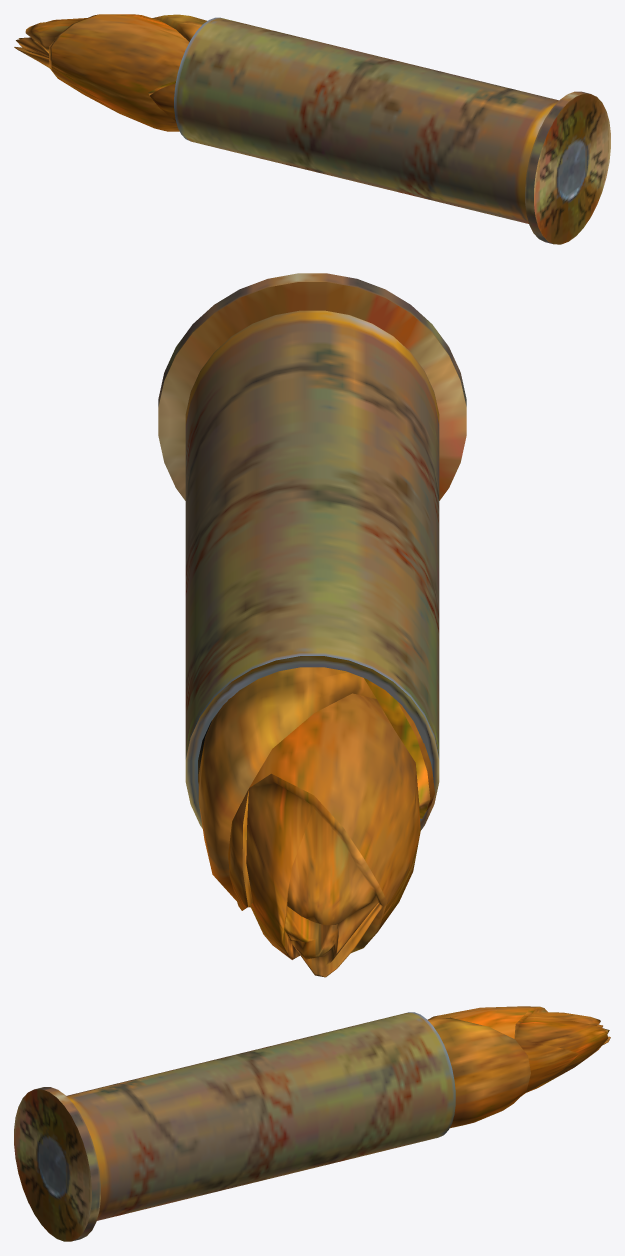
File: arcade_bullet.obj
3 renders of one model, top to bottom at view 1: azimuth 30°, elevation 25°; view 2: azimuth 150°, elevation 25°; view 3: azimuth 270°, elevation 25°, orthographic. The views are drawn at different scales.
Visible parts, largest first — view 1: bayomat0, bayomat1; view 2: bayomat0, bayomat1; view 3: bayomat0, bayomat1.
Part boxes in pixels (left/top/right/bottom): bayomat0: left=174, top=17, right=610, bottom=244; bayomat1: left=14, top=14, right=206, bottom=131; bayomat0: left=158, top=273, right=466, bottom=830; bayomat1: left=198, top=667, right=434, bottom=977; bayomat0: left=14, top=1012, right=455, bottom=1241; bayomat1: left=427, top=1006, right=610, bottom=1128.
Size of the model in its own units: 0.5775 by 0.2251 by 0.8618.
Materials: 2 (2 with a texture image).
